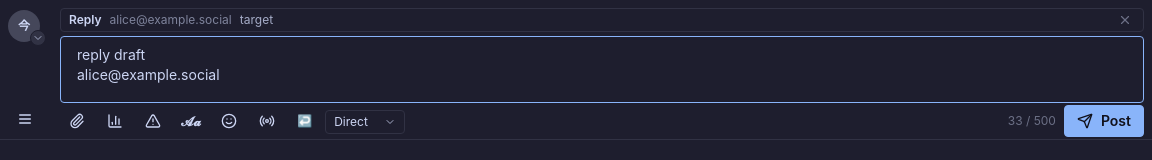
Test: ComposeAreaController › preserves the original visibility across plugin reply target changes
Click the button named "Set reply target": (305, 121) x1=288 y1=109 x2=321 y2=133
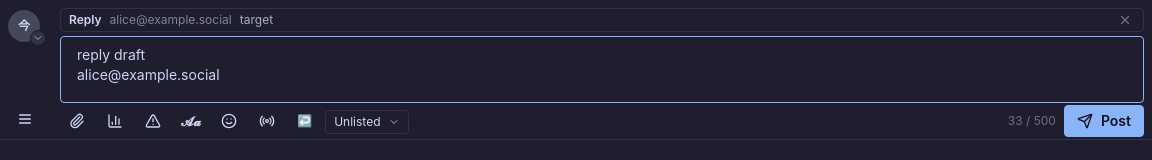
Expected: the button "Unlisted" is shown, x1=325 y1=110 x2=410 y2=134
Click the button titled "Clear target post": (1125, 20) x1=1115 y1=10 x2=1135 y2=30
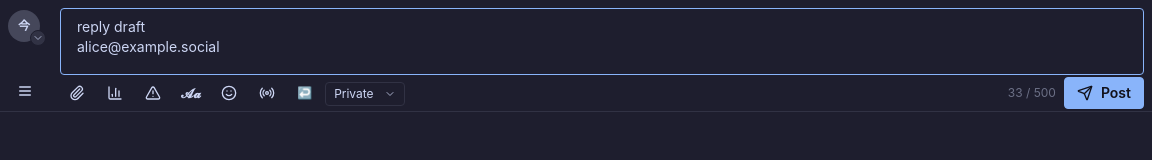
Expected: the button "Private" is shown, x1=325 y1=82 x2=405 y2=106
